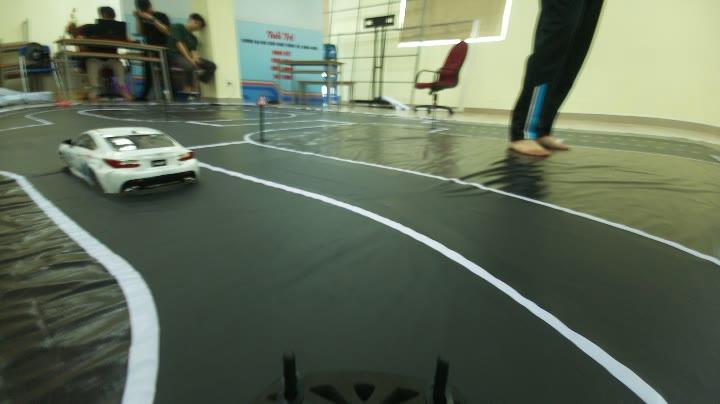car: (44, 118, 212, 206)
